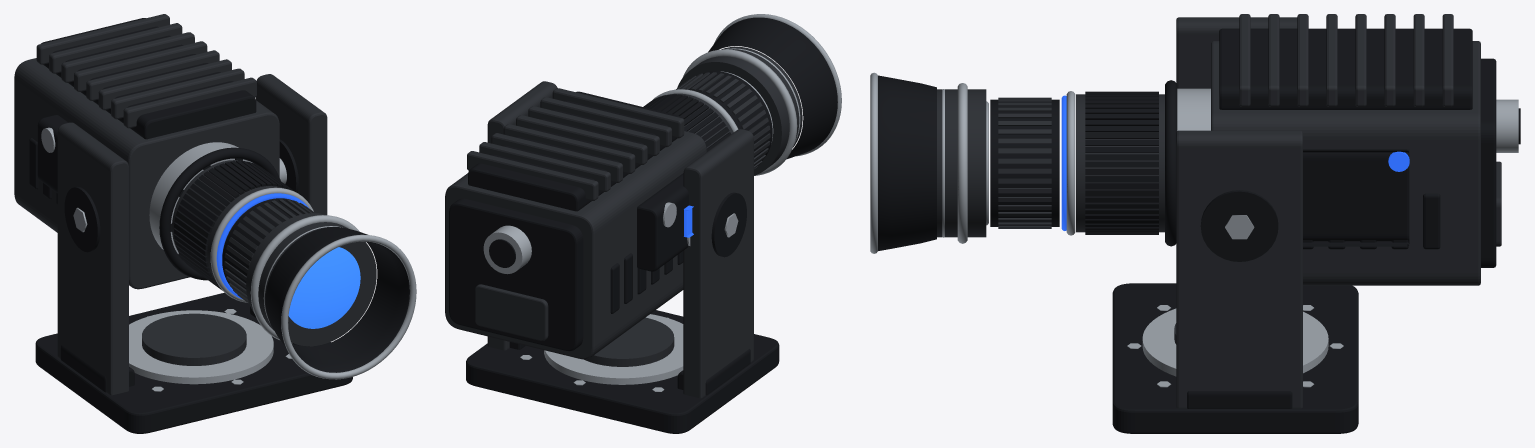
File: cinema-drone-lens.glb
The picture shows the model from 3 angles, left to right: view 1: azimuth 30°, elevation 25°; view 2: azimuth 150°, elevation 25°; view 3: azimuth 270°, elevation 25°; orthographic projection. The views are drawn at different scales.
Parts seen in each view (by area): view 1: body_shell, yoke_arm_0, mount_base, hood_shell, yoke_arm_1, body_spine, roll_ring, front_cell, roll_collar, front_element, hood_lip, mount_flange (+19 smaller); view 2: body_shell, yoke_arm_0, rear_cap, mount_base, hood_shell, body_spine, front_cell, module_block, roll_ring, rear_vent, roll_collar, aperture_barrel (+19 smaller); view 3: yoke_arm_1, body_shell, mount_base, body_spine, side_plate, hood_shell, front_cell, aperture_barrel, yoke_shoulder_1, yoke_arm_0, rear_cap, focus_barrel (+18 smaller).
Boxes of the visible parts, x1,y1,x2,y2 form: body_shell: (14,58,279,289); yoke_arm_0: (57,122,128,395); mount_base: (35,292,352,433); hood_shell: (265,227,409,372); yoke_arm_1: (256,74,327,346); body_spine: (41,18,256,139); roll_ring: (129,310,273,384); front_cell: (246,213,376,346); roll_collar: (142,313,246,365); front_element: (288,247,360,328); hood_lip: (281,234,416,379); mount_flange: (159,147,280,280); body_shell: (445,131,706,359); yoke_arm_0: (683,129,753,398); rear_cap: (449,198,583,351); mount_base: (466,310,779,433); hood_shell: (708,17,837,159); body_spine: (468,91,681,211); front_cell: (677,46,802,175); module_block: (637,173,688,271); roll_ring: (544,314,683,384); rear_vent: (475,284,548,340); roll_collar: (584,317,674,366); aperture_barrel: (688,71,772,162); yoke_arm_1: (1176,130,1302,408); body_shell: (1211,41,1480,285); mount_base: (1112,283,1358,433); body_spine: (1219,28,1472,109); side_plate: (1303,149,1409,246); hood_shell: (878,75,936,250); front_cell: (937,89,986,237); aperture_barrel: (990,99,1059,226); yoke_shoulder_1: (1200,190,1278,261); yoke_arm_0: (1176,17,1297,88); rear_cap: (1481,58,1496,267); focus_barrel: (1076,94,1164,232).
Size of the model in its own units: 0.149 by 0.1733 by 0.3182.
